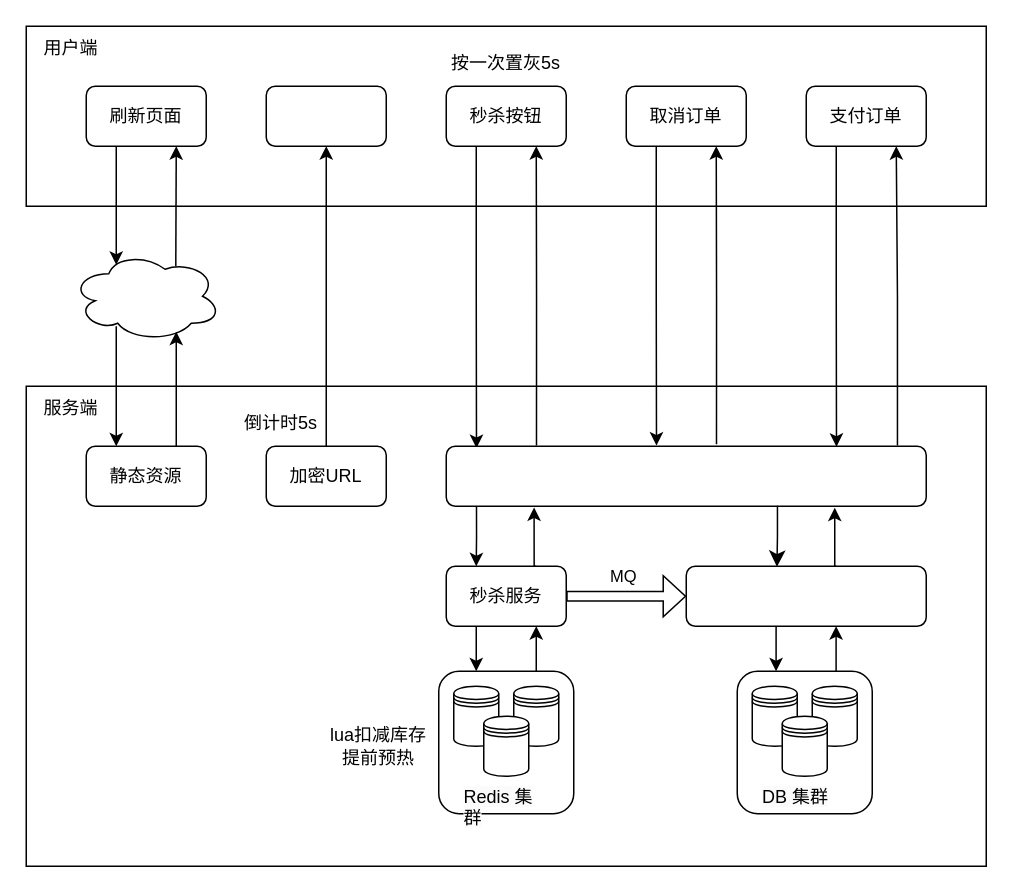
Some shapes in this 1013 by 893 pixel diagram are drawn without their labels. The box of each missing label's shape, as (x1, y1, x2, y2) in pixels:
CDN: (70, 250, 221, 341)
均衡负载、过滤请求、降级请求: (445, 445, 926, 506)
解密URL: (265, 85, 386, 146)
订单服务: (685, 565, 926, 626)
